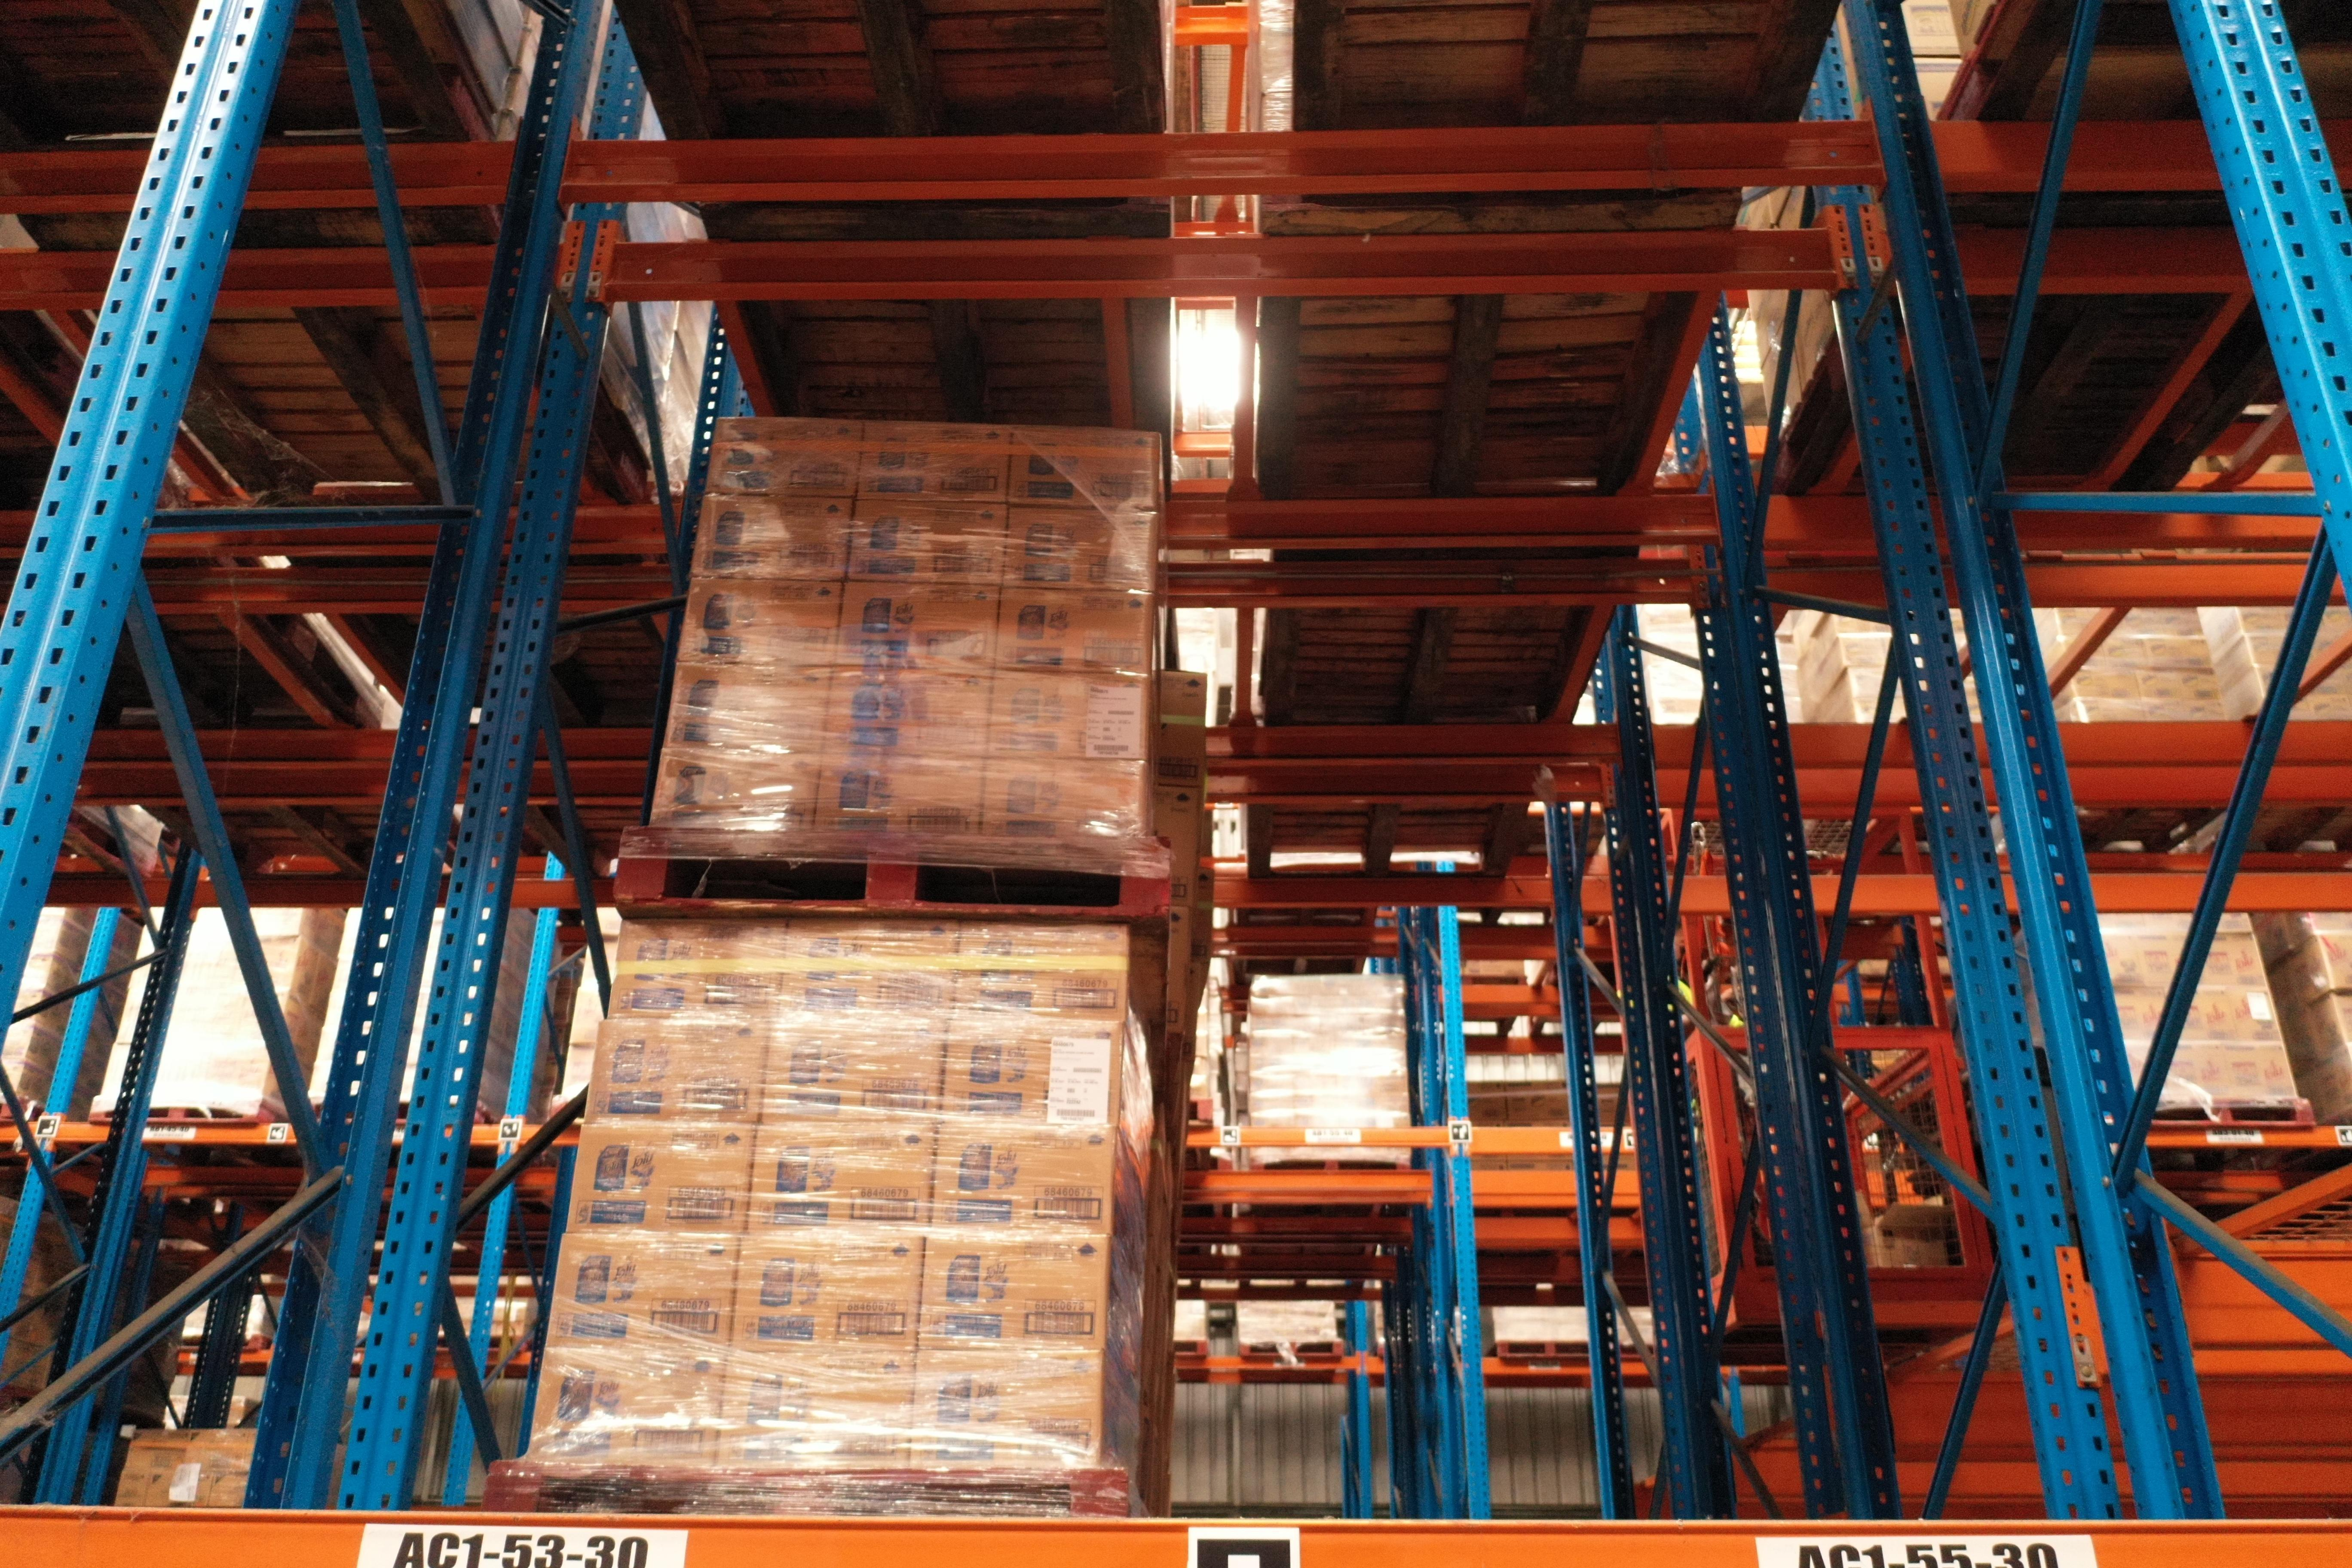box: (525, 1346, 730, 1472), (710, 1349, 917, 1472), (905, 1347, 1102, 1473), (724, 1235, 926, 1354), (744, 1122, 940, 1239), (913, 1235, 1111, 1351), (546, 1234, 740, 1349), (567, 1120, 758, 1235), (938, 1015, 1127, 1130), (759, 1017, 952, 1123), (927, 1125, 1113, 1235), (584, 1017, 772, 1122), (605, 917, 789, 1024), (773, 917, 964, 1018), (950, 917, 1132, 1022), (821, 663, 992, 758), (665, 660, 835, 754), (814, 752, 989, 843), (833, 577, 1001, 672), (675, 576, 842, 670), (843, 497, 1011, 590), (987, 668, 1148, 763), (651, 747, 821, 836), (990, 583, 1151, 675), (982, 756, 1146, 845), (693, 493, 854, 584), (705, 413, 868, 502), (999, 502, 1157, 593), (1006, 422, 1162, 513), (857, 416, 1013, 506)
